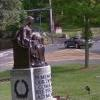Statue: (9, 13, 53, 76)
